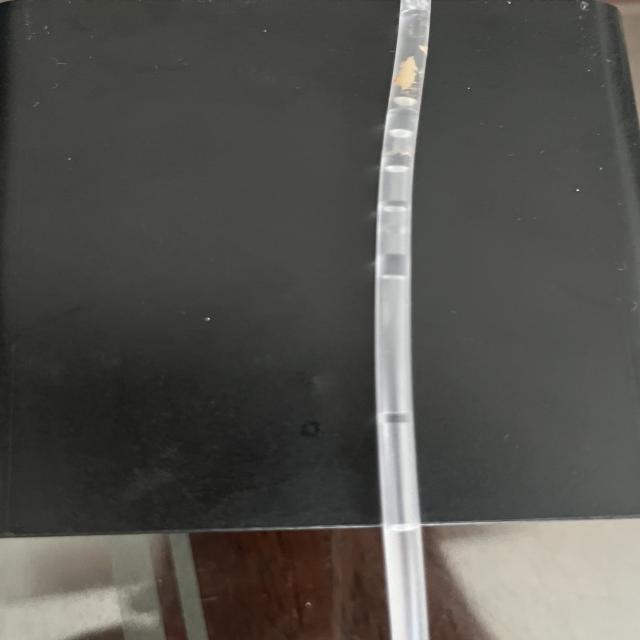bubble: (359, 271, 443, 419), (369, 210, 423, 261), (375, 108, 449, 141), (368, 161, 416, 200), (393, 1, 436, 22), (384, 92, 430, 106)
